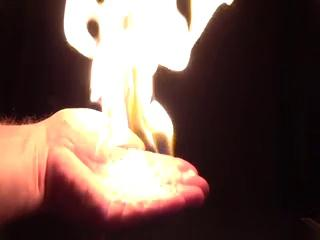Fire: (83, 1, 197, 201)
